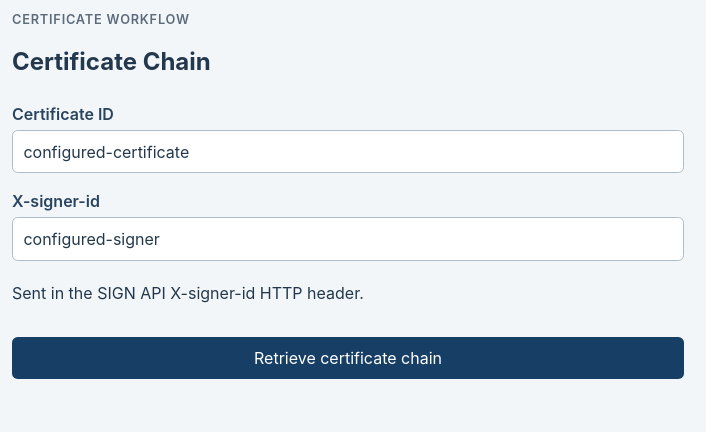
CertificateChainPage › shows loading and empty-chain states
Later steps or results of the test are not shown.
Replace the text in the field showing "configured-certificate" with "CERT-1" at x=348, y=152, box x1=12 y1=130 x2=684 y2=174
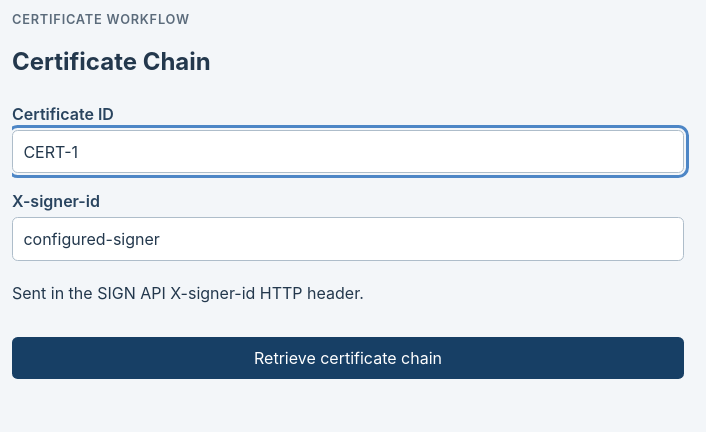
Click the button "Retrieve certificate chain" at x=348, y=358, box x1=12 y1=337 x2=684 y2=379
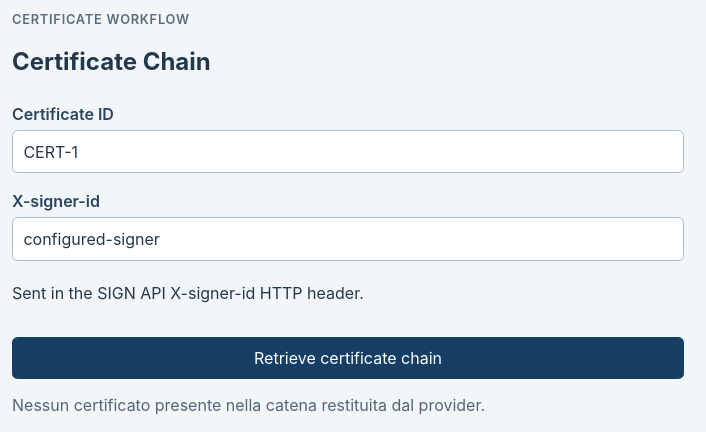
Check: the text "Nessun certificato presente nella catena restituita dal provider." is shown, box x1=12 y1=395 x2=485 y2=415
